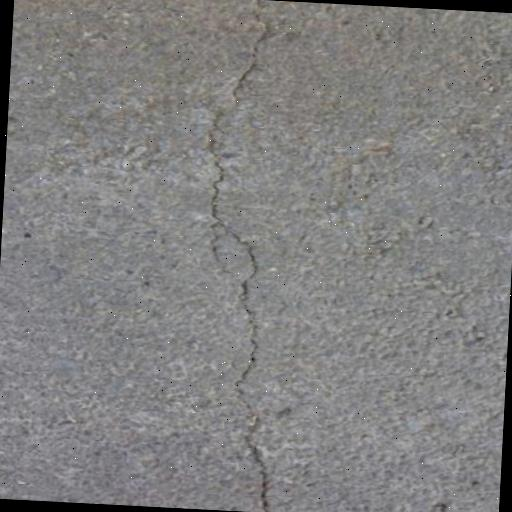spalling: (189, 13, 287, 506)
